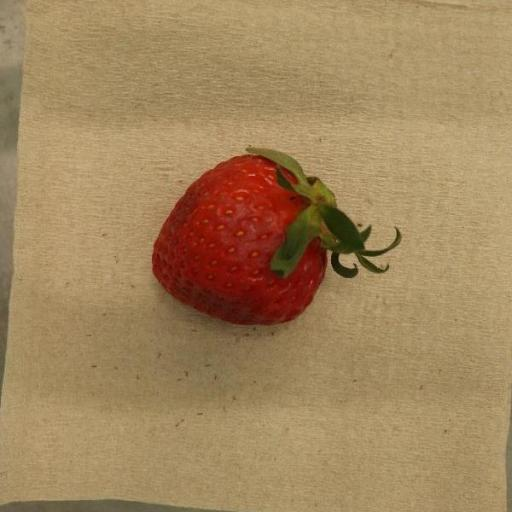Strawberry: (152, 147, 402, 325)
